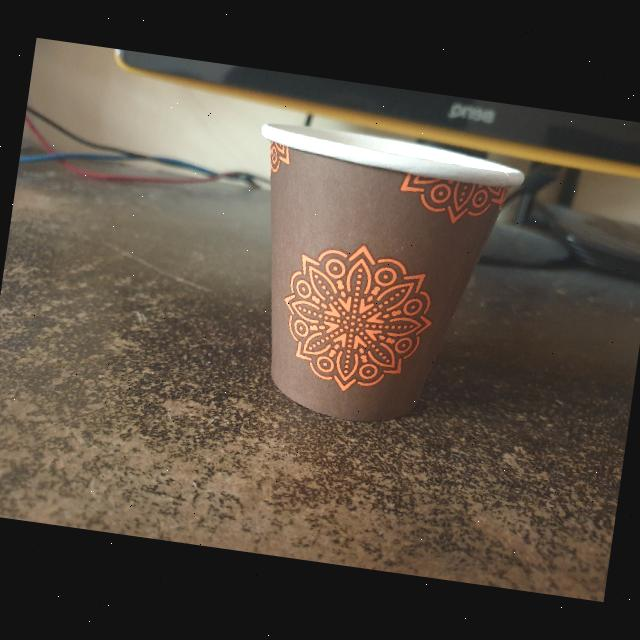trash: (208, 108, 531, 447)
